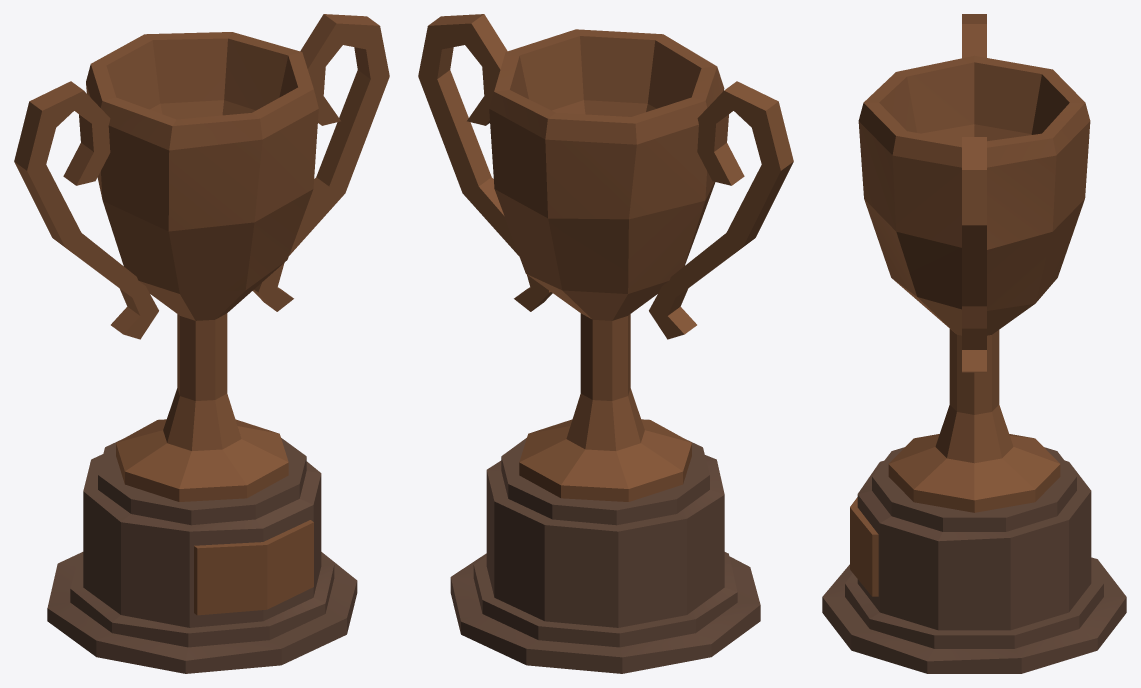
File: SM_Icon_Cup_03.fbx
3 renders of one model, left to right at view 1: azimuth 30°, elevation 25°; view 2: azimuth 150°, elevation 25°; view 3: azimuth 270°, elevation 25°, orthographic. The views are drawn at different scales.
Visible parts, largest first — view 1: SM_Icon_Cup_03; view 2: SM_Icon_Cup_03; view 3: SM_Icon_Cup_03.
Boxes of the visible parts, left/top/right/bottom form: SM_Icon_Cup_03: left=14, top=14, right=389, bottom=673; SM_Icon_Cup_03: left=418, top=14, right=793, bottom=673; SM_Icon_Cup_03: left=822, top=14, right=1126, bottom=673.
Size of the model in its own units: 45.54 by 66.88 by 34.43.
